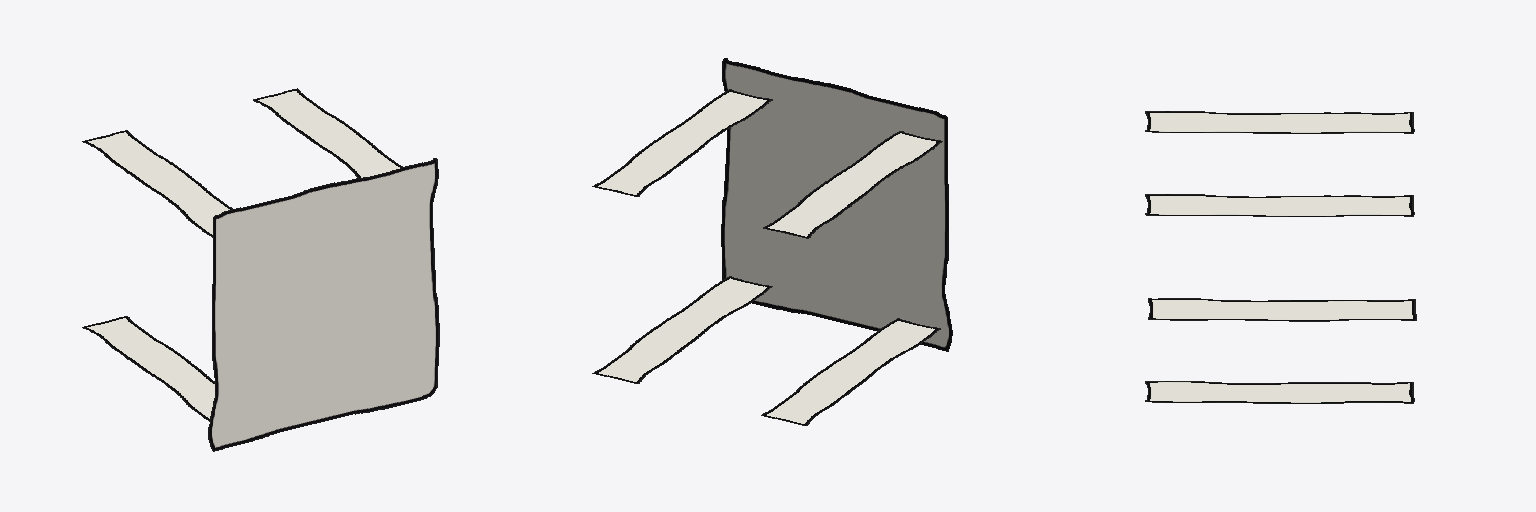
The picture shows the model from 3 angles: view 1: azimuth 30°, elevation 25°; view 2: azimuth 150°, elevation 25°; view 3: azimuth 270°, elevation 25°; orthographic projection.
Visible parts, largest first — view 1: S_TableTop_TableTop, B_TableLeg1_TableLeg1, B_TableLeg4_TableLeg4, B_TableLeg2_TableLeg2; view 2: S_TableTop_TableTop, B_TableLeg1_TableLeg1, B_TableLeg2_TableLeg2, B_TableLeg3_TableLeg3, B_TableLeg4_TableLeg4; view 3: B_TableLeg3_TableLeg3, B_TableLeg4_TableLeg4, B_TableLeg1_TableLeg1, B_TableLeg2_TableLeg2.
Part boxes in pixels (x1,y1,x2,y2): S_TableTop_TableTop: (208, 158, 439, 451); B_TableLeg1_TableLeg1: (82, 130, 232, 237); B_TableLeg4_TableLeg4: (82, 316, 214, 421); B_TableLeg2_TableLeg2: (253, 88, 402, 177); S_TableTop_TableTop: (721, 58, 952, 351); B_TableLeg1_TableLeg1: (763, 131, 942, 238); B_TableLeg2_TableLeg2: (592, 89, 772, 196); B_TableLeg3_TableLeg3: (592, 276, 772, 383); B_TableLeg4_TableLeg4: (761, 318, 940, 425); B_TableLeg3_TableLeg3: (1145, 381, 1414, 403); B_TableLeg4_TableLeg4: (1148, 298, 1416, 321); B_TableLeg1_TableLeg1: (1145, 111, 1414, 133); B_TableLeg2_TableLeg2: (1145, 194, 1414, 216).
Bounding box in the file's own units: 2 × 2 × 2.02.
Materials: 1 (1 with a texture image).